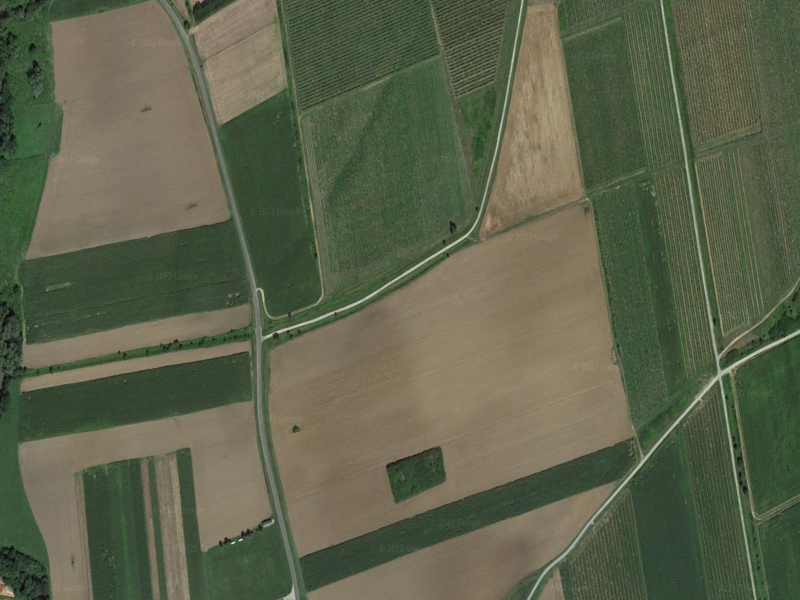field: (563, 18, 649, 187)
